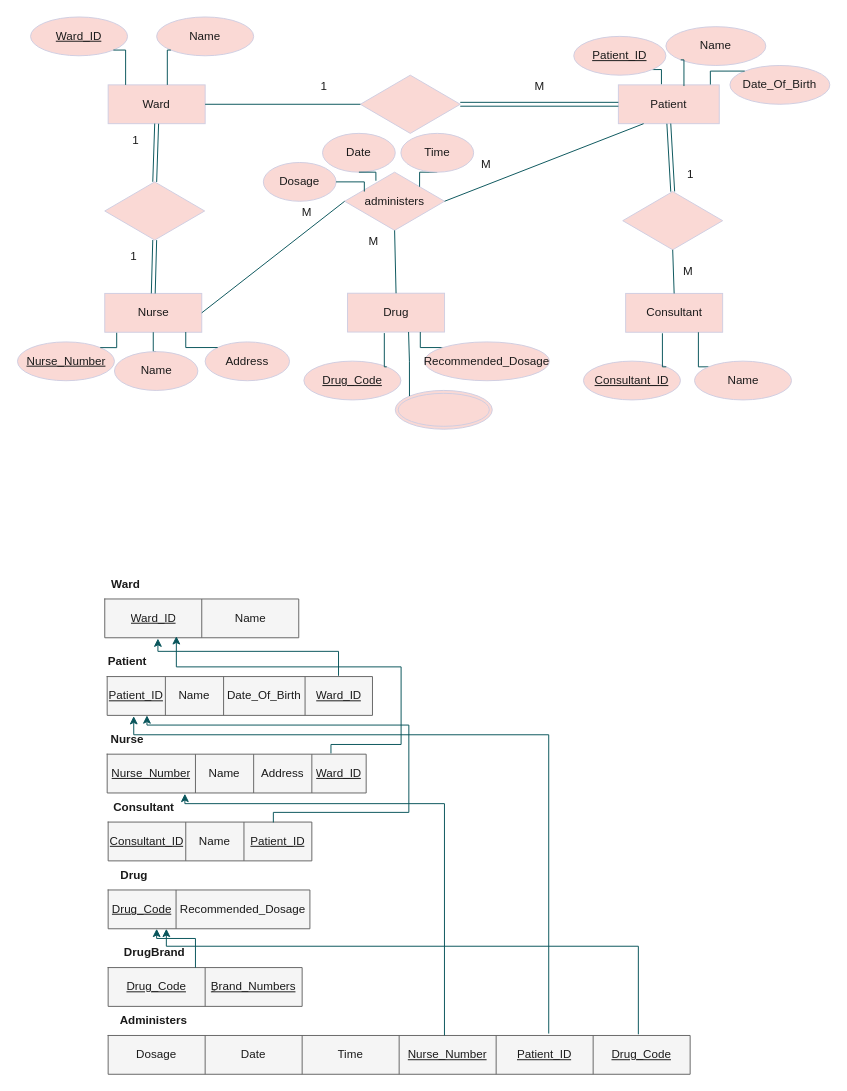
Image size: 847x1091. Some labels were removed from this diagram. Each missing label, with the centre of its shape:
"assigns" goes at point (672, 220).
"Brand_Names" goes at point (443, 409).
"host" goes at point (409, 103).
"supervision" goes at point (154, 210).
